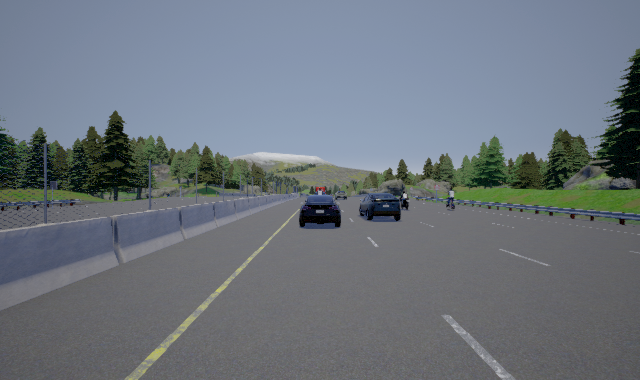bike: (444, 187, 459, 213)
vehicle: (299, 187, 347, 227), (359, 193, 403, 221)
